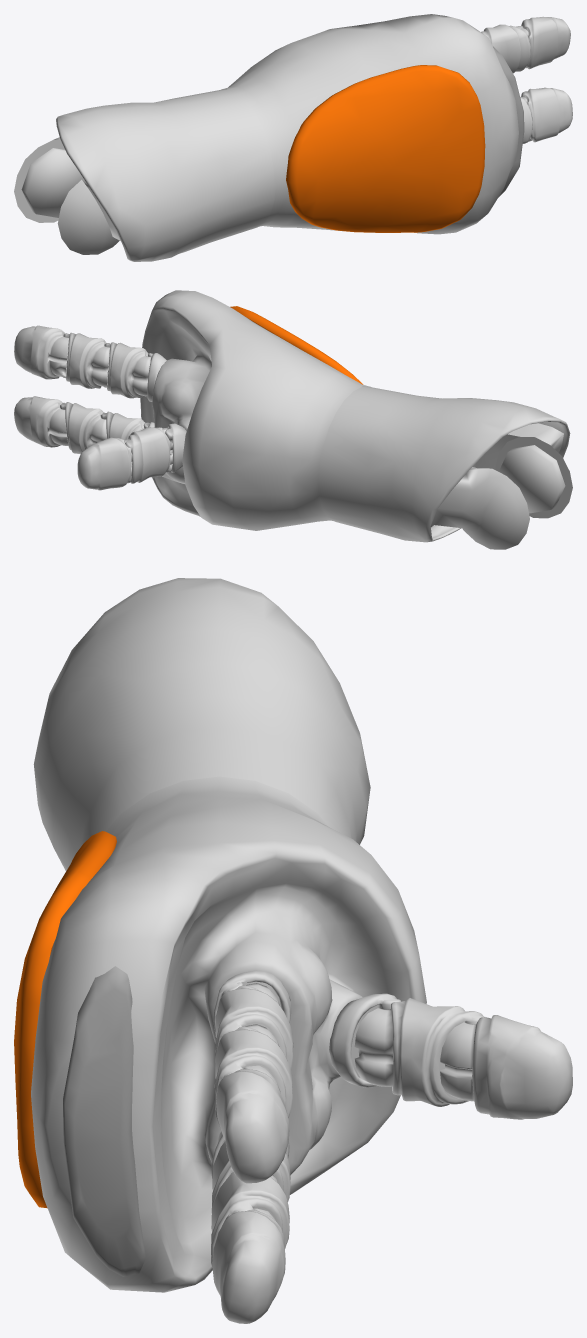
The model's file is LElbowRollComplete.obj.
3 views of the same model, one above another, from view 1: azimuth 30°, elevation 25°; view 2: azimuth 150°, elevation 25°; view 3: azimuth 270°, elevation 25° (orthographic). The views are drawn at different scales.
Parts seen in each view (by area): view 1: LElbowRollComplete_Mesh.006; view 2: LElbowRollComplete_Mesh.006; view 3: LElbowRollComplete_Mesh.006.
Boxes of the visible parts, x1,y1,x2,y2 form: LElbowRollComplete_Mesh.006: [14, 14, 572, 261]; LElbowRollComplete_Mesh.006: [14, 290, 572, 549]; LElbowRollComplete_Mesh.006: [14, 578, 572, 1323].
Bounding box in the file's own units: 186 × 68.29 × 85.28.
